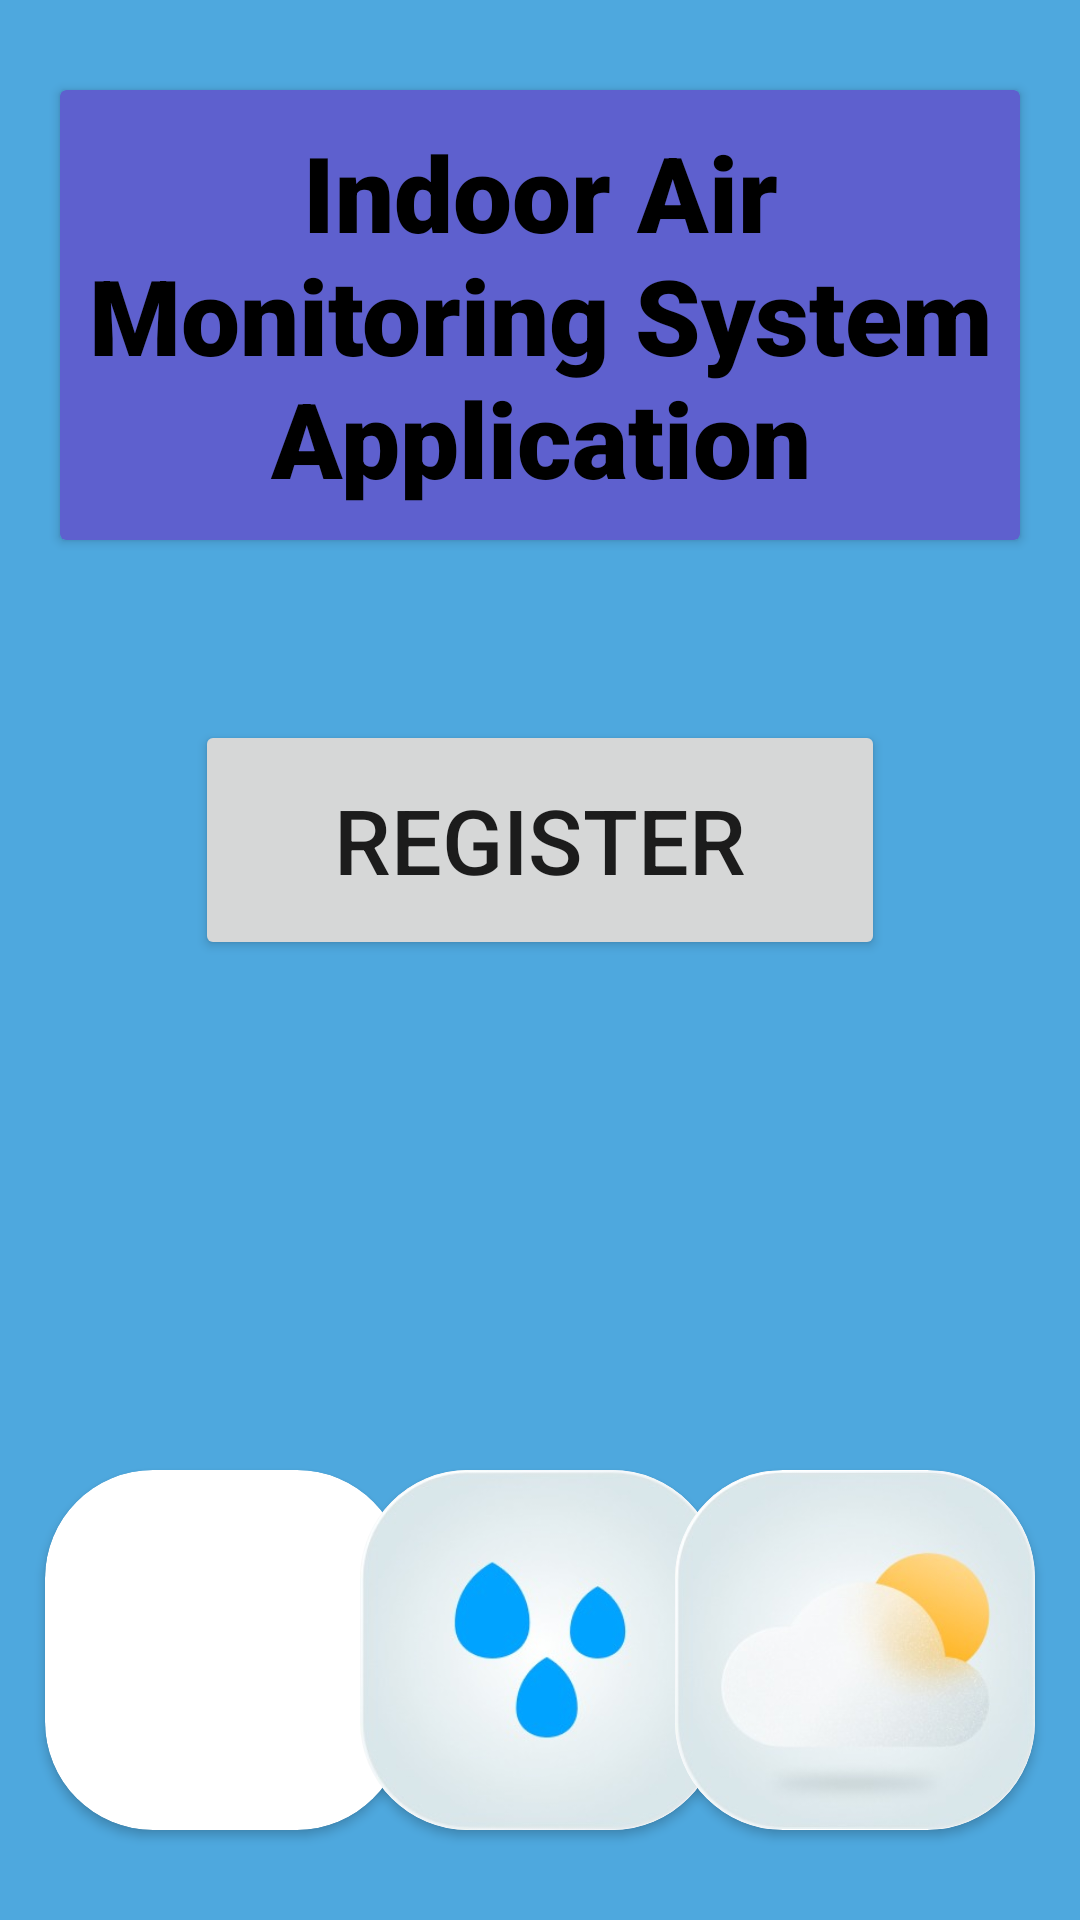

Where to tap for icons on this 1080*1920 app screen, as [x,y]:
humidity: [540,1650]
